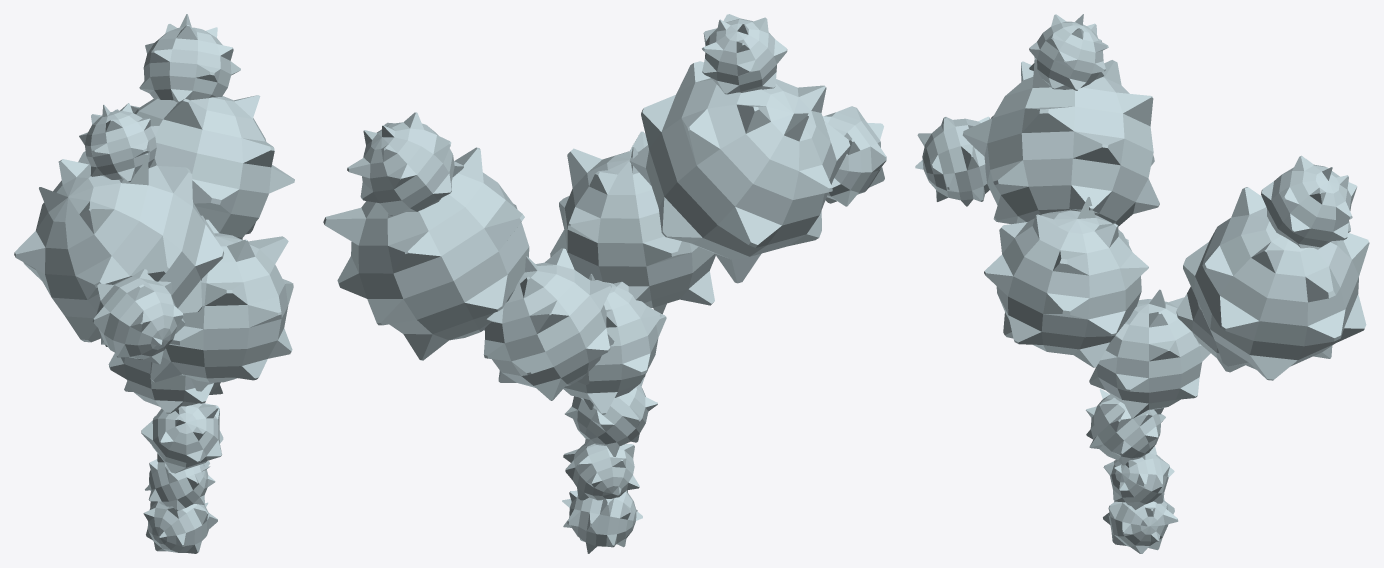
Rendered from thornPlant.fbx.
The picture shows the model from 3 angles, left to right: view 1: azimuth 30°, elevation 25°; view 2: azimuth 150°, elevation 25°; view 3: azimuth 270°, elevation 25°; orthographic projection. The views are drawn at different scales.
Visible parts, largest first — view 1: pSphere14, pSphere13, pSphere12, pSphere15, pSphere9; view 2: pSphere14, pSphere13, pSphere12, pSphere15, pSphere9; view 3: pSphere14, pSphere13, pSphere12, pSphere15, pSphere9.
Boxes of the visible parts, x1=… form: pSphere14: x1=14, y1=95, x2=294, y2=346; pSphere13: x1=150, y1=215, x2=293, y2=391; pSphere12: x1=108, y1=353, x2=223, y2=553; pSphere15: x1=92, y1=14, x2=240, y2=364; pSphere9: x1=79, y1=103, x2=159, y2=182; pSphere14: x1=323, y1=61, x2=850, y2=360; pSphere13: x1=483, y1=131, x2=715, y2=400; pSphere12: x1=562, y1=274, x2=666, y2=553; pSphere15: x1=347, y1=106, x2=886, y2=215; pSphere9: x1=702, y1=14, x2=787, y2=94; pSphere14: x1=962, y1=58, x2=1369, y2=380; pSphere13: x1=984, y1=196, x2=1255, y2=372; pSphere12: x1=1086, y1=289, x2=1210, y2=553; pSphere15: x1=915, y1=116, x2=1356, y2=249; pSphere9: x1=1029, y1=14, x2=1108, y2=90.
Size of the model in its own units: 4.53 by 6.06 by 5.14.
